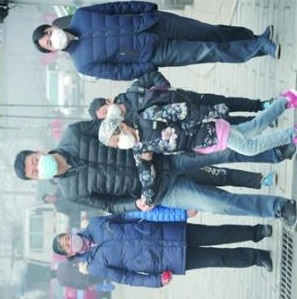person: (13, 118, 296, 229), (96, 90, 297, 208), (36, 1, 279, 79), (51, 213, 281, 285), (86, 72, 280, 119), (39, 188, 94, 215), (47, 262, 95, 290)
